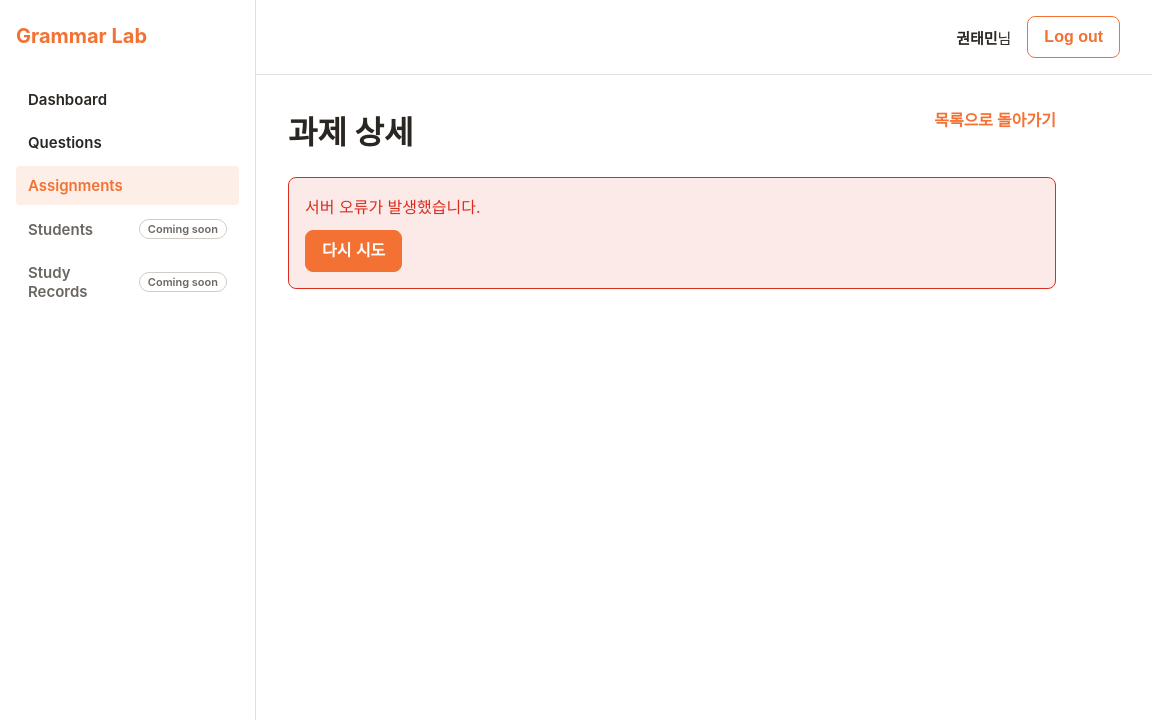
AssignmentDetailPage › shows a recoverable error and retries the same request on click
Expected: the message shows "서버 오류가 발생했습니다.", [305,197,480,217]
Click the button "다시 시도" at (354, 251), box [305,230,402,272]
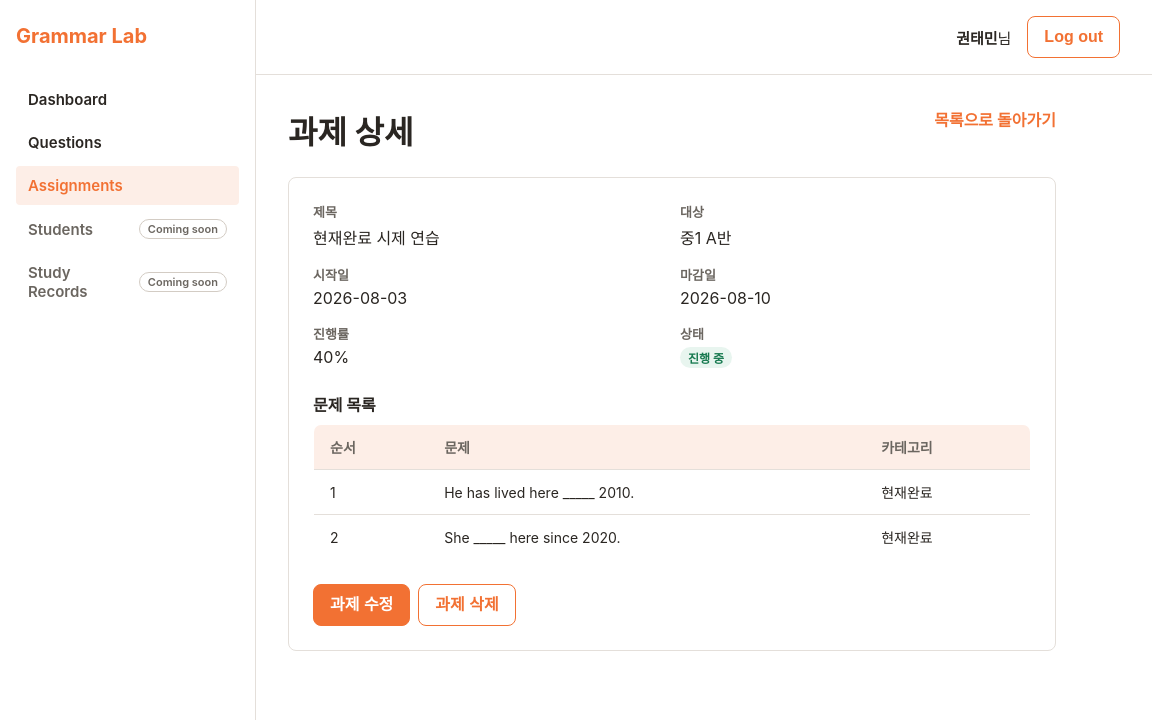
Expected: the text "현재완료 시제 연습" is shown, [313,228,440,248]
